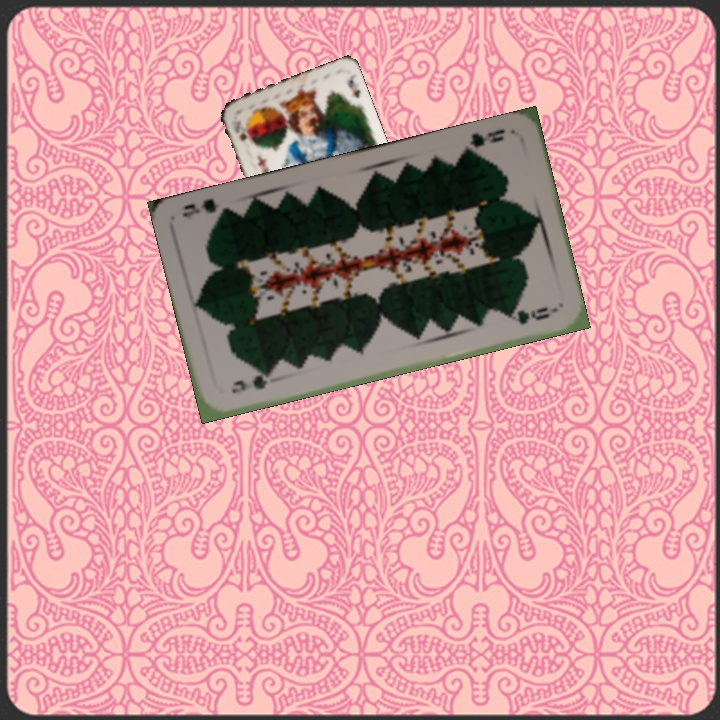G9: (459, 125, 508, 157), (227, 370, 274, 396)
SK: (230, 117, 250, 143)
